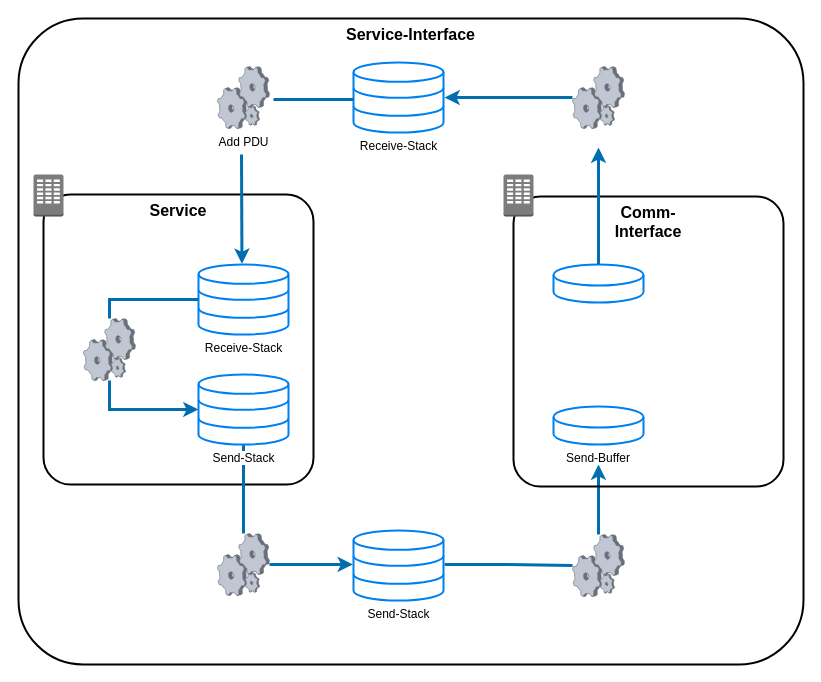
Some shapes in this 821 by 682 pixel diagram are drawn without their labels. The shapes that lost their labels are listed below. From the top down, each one's centre as x and y in pixels, then its label:
the point at 598,97: Process Receive-Stack
the point at 598,283: Receive-Buffer
the point at 109,349: Stack-processing
the point at 243,564: Get PDU
the point at 598,565: Process Send-Stack
